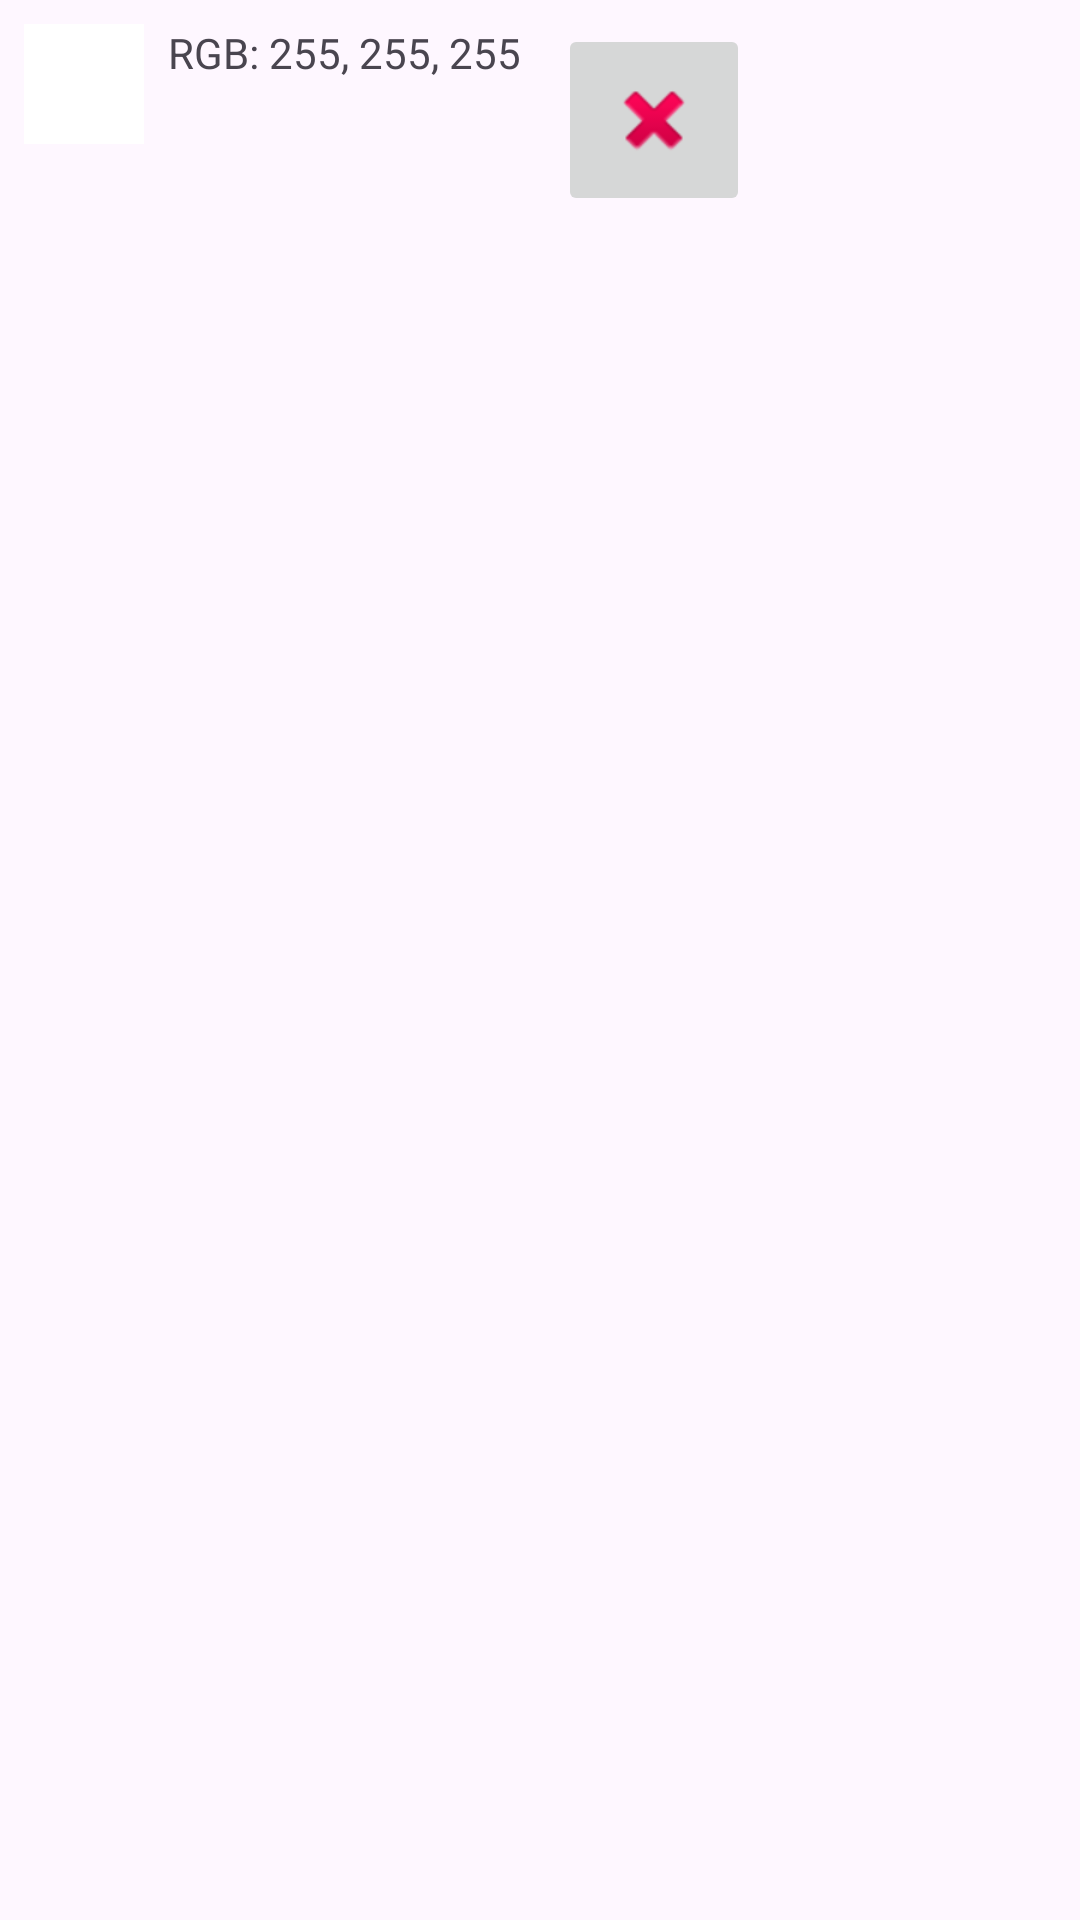

Point at icon controls on the screen. Image size 1080px×1920px, points as point (x, y).
Delete Color: point (654, 120)
